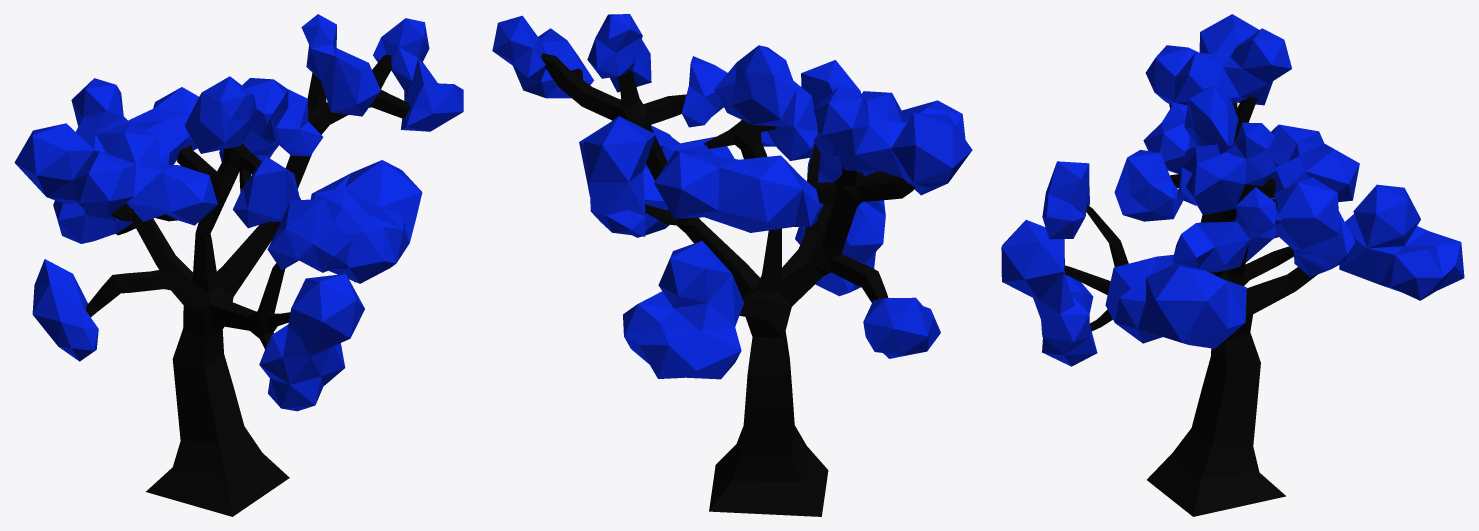
The model's file is Tree2.fbx.
The picture shows the model from 3 angles, left to right: view 1: azimuth 30°, elevation 25°; view 2: azimuth 150°, elevation 25°; view 3: azimuth 270°, elevation 25°; orthographic projection. The views are drawn at different scales.
Visible parts, largest first — view 1: Tree 2 Leaves; view 2: Tree 2 Leaves; view 3: Tree 2 Leaves.
Part boxes in pixels (bbox=[...]): Tree 2 Leaves: bbox=[14, 14, 463, 516]; Tree 2 Leaves: bbox=[492, 14, 972, 516]; Tree 2 Leaves: bbox=[1001, 14, 1464, 516].
Size of the model in its own units: 8.35 by 8.05 by 7.92.
